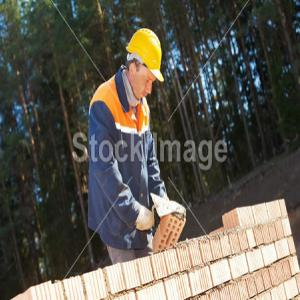yellow: (126, 24, 166, 101)
